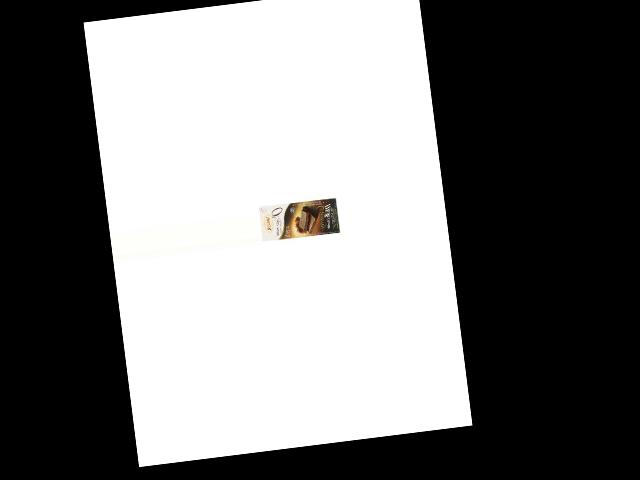chocolate: (258, 195, 340, 243)
